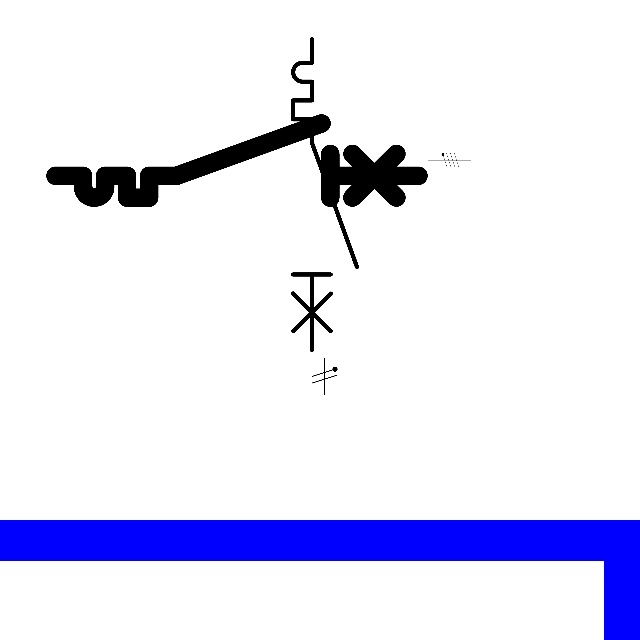interruptor_termomagnetico: (46, 114, 428, 207), (285, 31, 365, 358)
